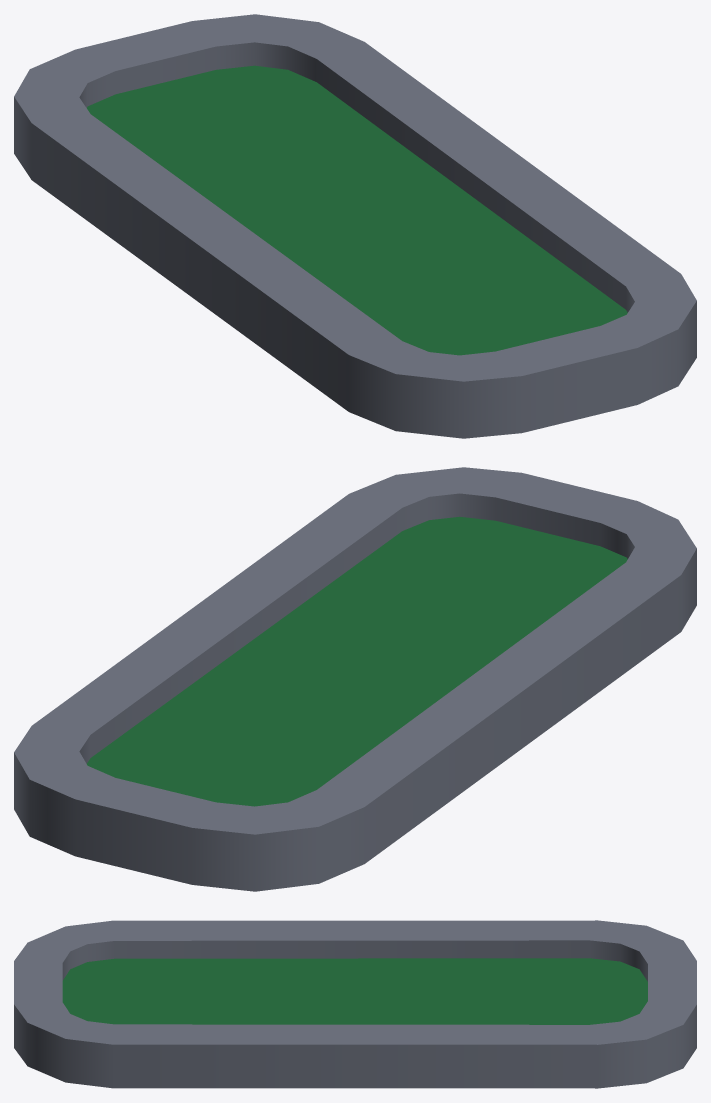
File: flowerbed_v1.fbx
The picture shows the model from 3 angles, top to bottom: view 1: azimuth 30°, elevation 25°; view 2: azimuth 150°, elevation 25°; view 3: azimuth 270°, elevation 25°; orthographic projection. The views are drawn at different scales.
Visible parts, largest first — view 1: flowerbed_v1; view 2: flowerbed_v1; view 3: flowerbed_v1.
Part boxes in pixels (x1,y1,x2,y2): flowerbed_v1: [14, 14, 696, 438]; flowerbed_v1: [14, 467, 696, 891]; flowerbed_v1: [14, 920, 696, 1088].
Bounding box in the file's own units: 118 × 19.4 × 275.
